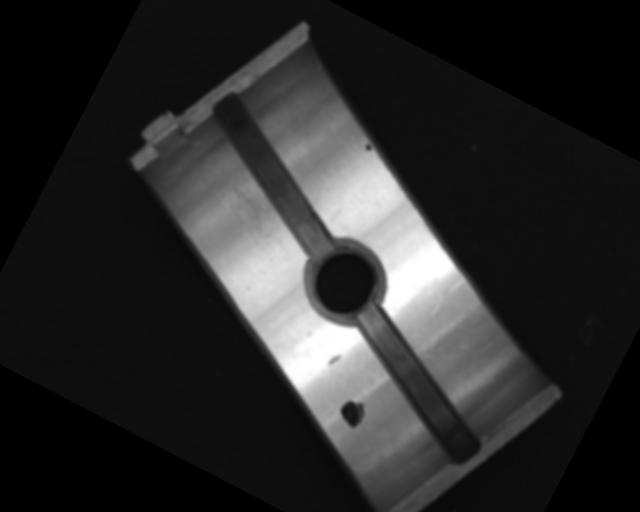blot: (334, 394, 370, 431), (361, 140, 375, 154)
bruise: (425, 268, 468, 324), (327, 351, 343, 370)
gap: (175, 90, 373, 262), (320, 303, 512, 468)
hole: (292, 228, 396, 335)
scratch: (194, 170, 295, 255)
